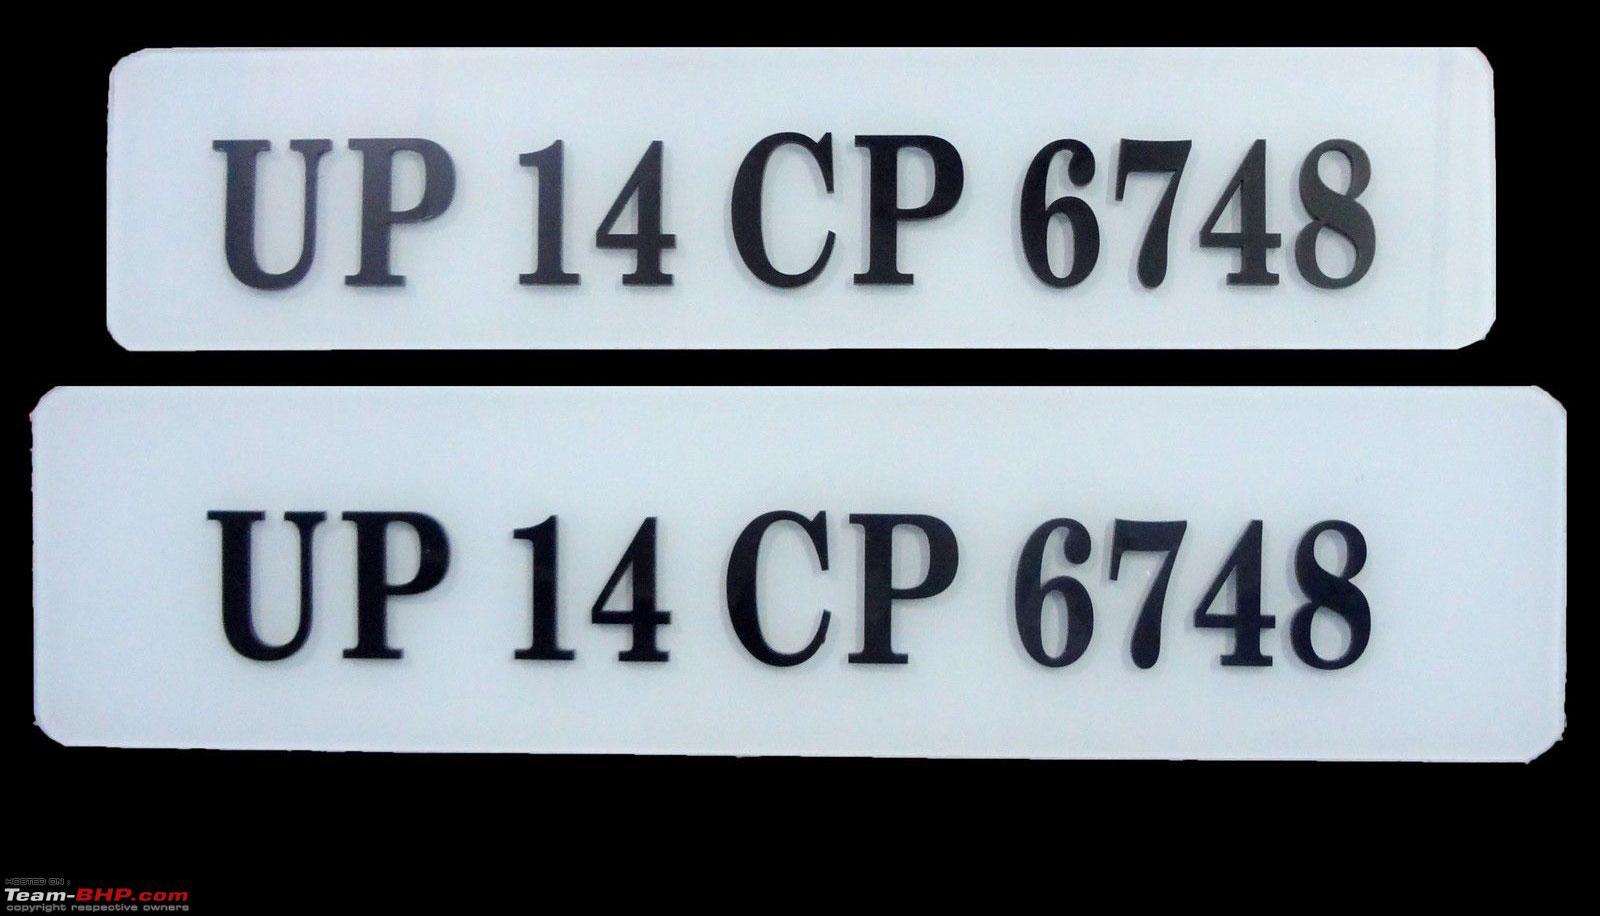number_plate: (121, 43, 1495, 337)
